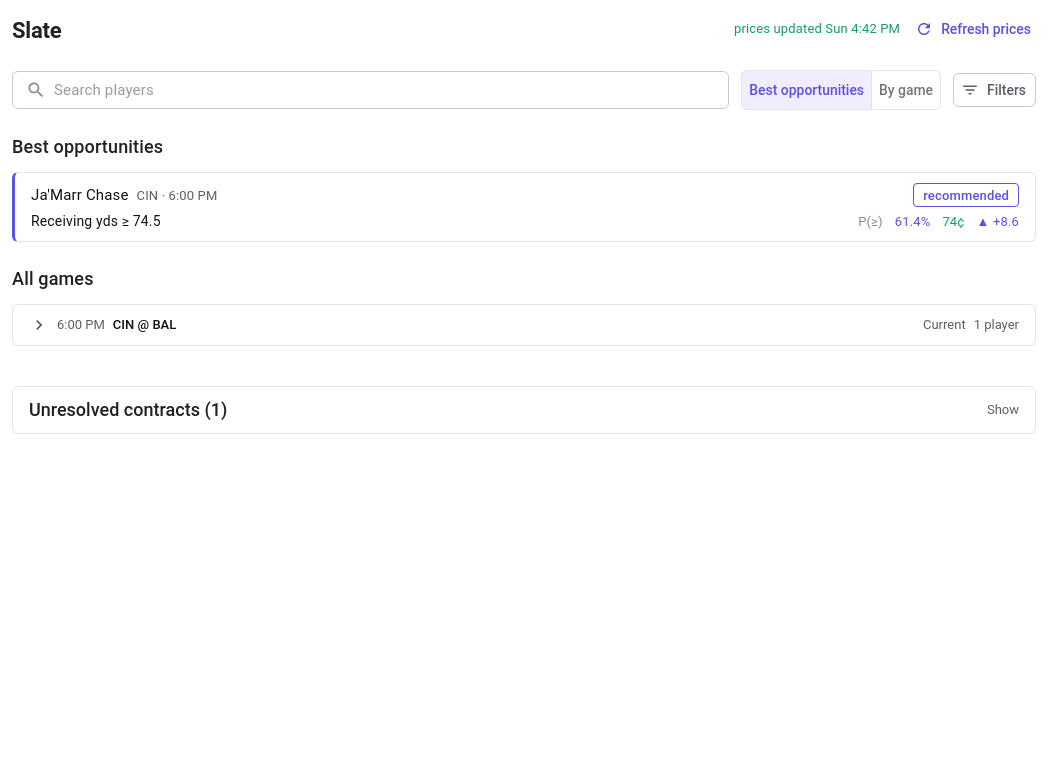
Test: Slate screen states (grouped) › unresolved contracts are retained (admin), collapsed behind a labelled toggle
Expected: the text "Unresolved contracts (1)" is shown, [29,397,227,423]
# Expanding reveals the retained row (never dropped).
Click the button "Unresolved contracts (1) Show". click: [120, 410]
box: [12,386,1036,434]
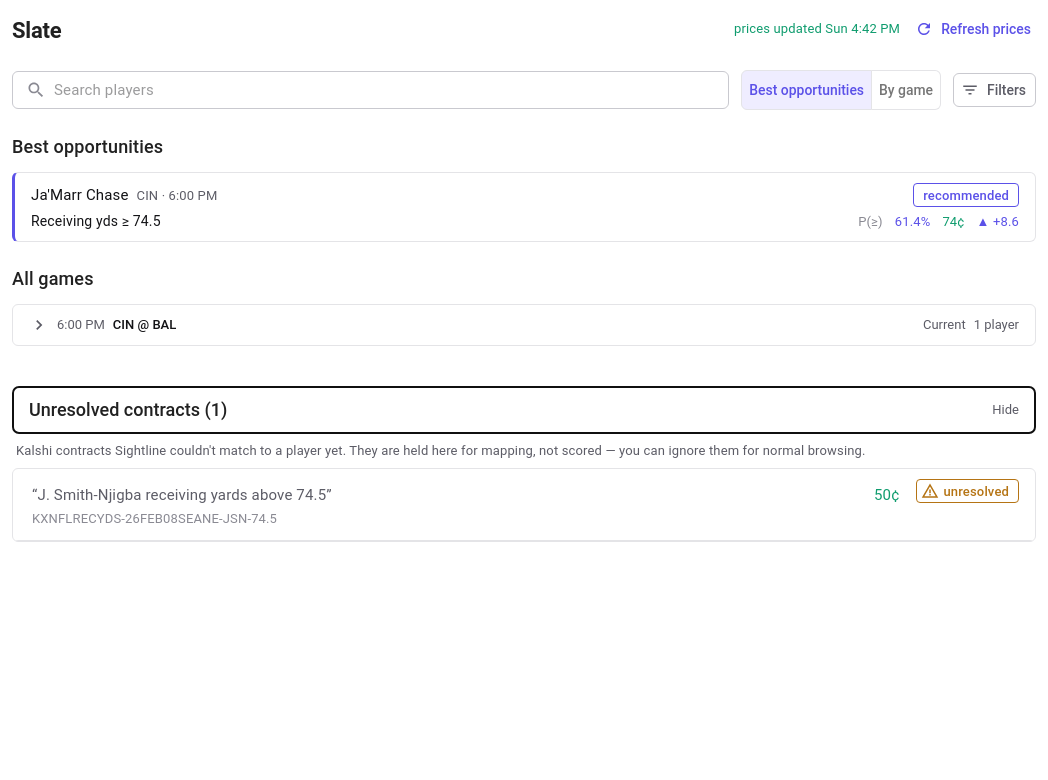
Now the text "unresolved" is shown, box [944,484,1009,499]
